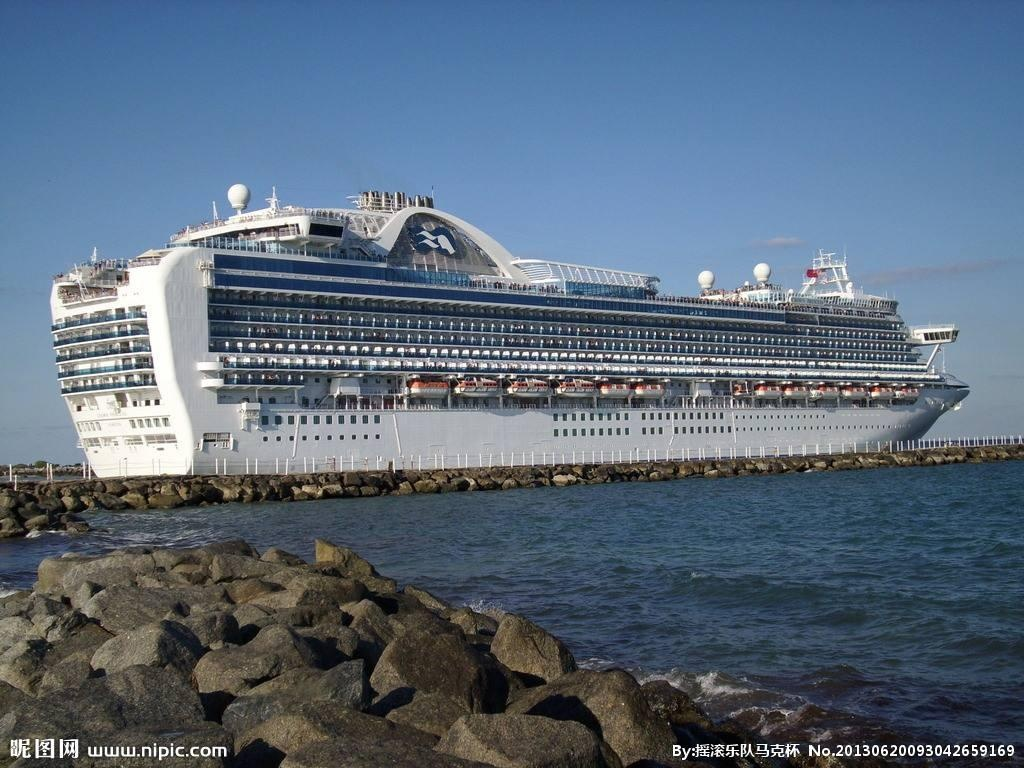youlun: (43, 174, 975, 487)
